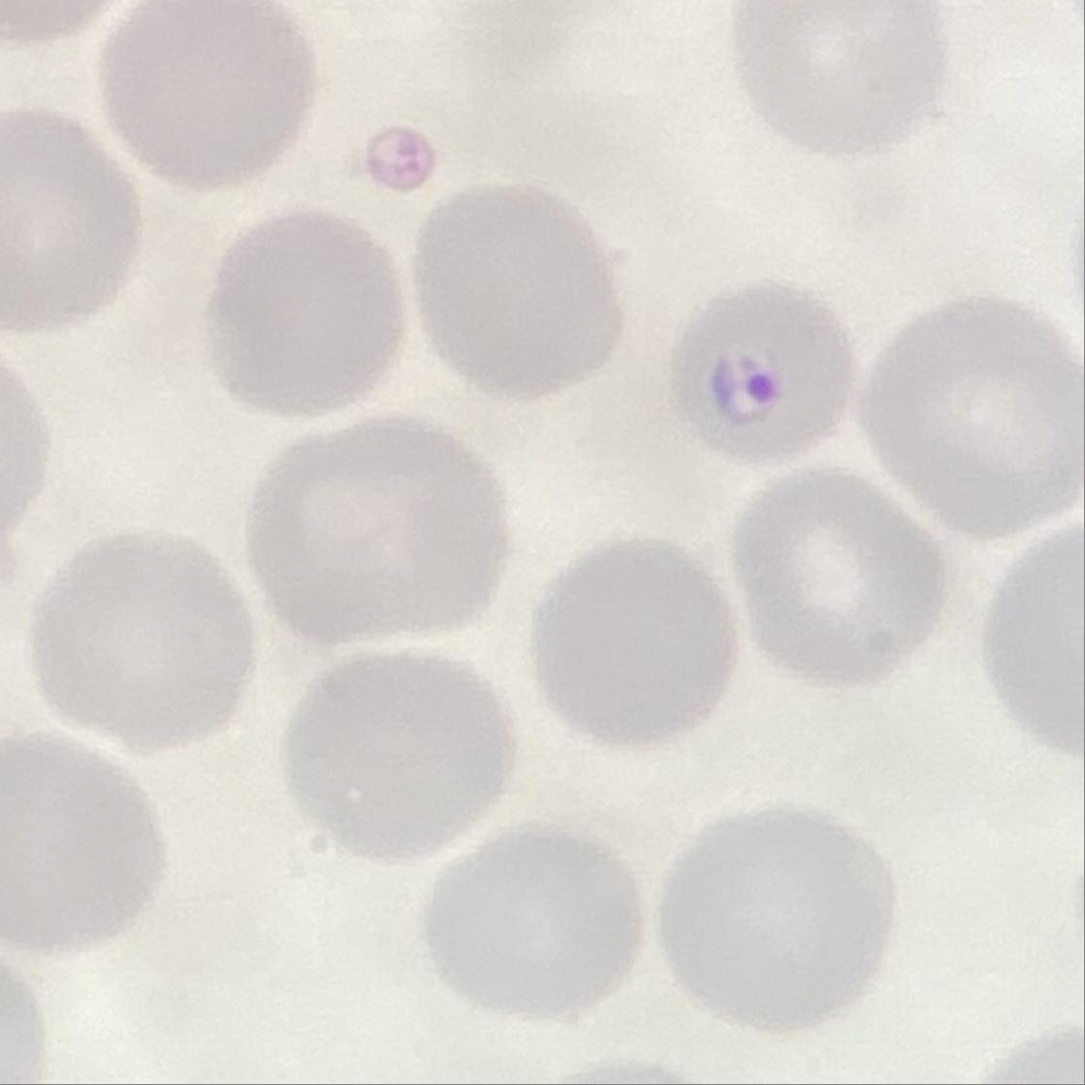Infected: (669, 273, 853, 471)
Uninfected: (853, 298, 1082, 547), (252, 428, 500, 644), (666, 799, 892, 1032), (32, 531, 263, 756), (414, 176, 636, 398), (734, 470, 955, 676), (288, 654, 517, 851), (420, 828, 640, 1030), (527, 538, 733, 743), (207, 208, 405, 420), (97, 0, 317, 179), (730, 0, 955, 152), (0, 739, 155, 955), (0, 118, 142, 331)
